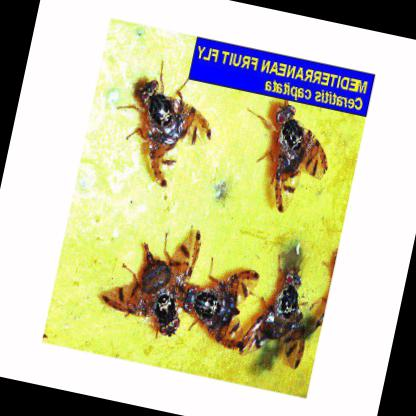fruit fly: (116, 63, 213, 188), (100, 227, 201, 337), (238, 257, 306, 371), (181, 259, 260, 350), (273, 104, 329, 214)
